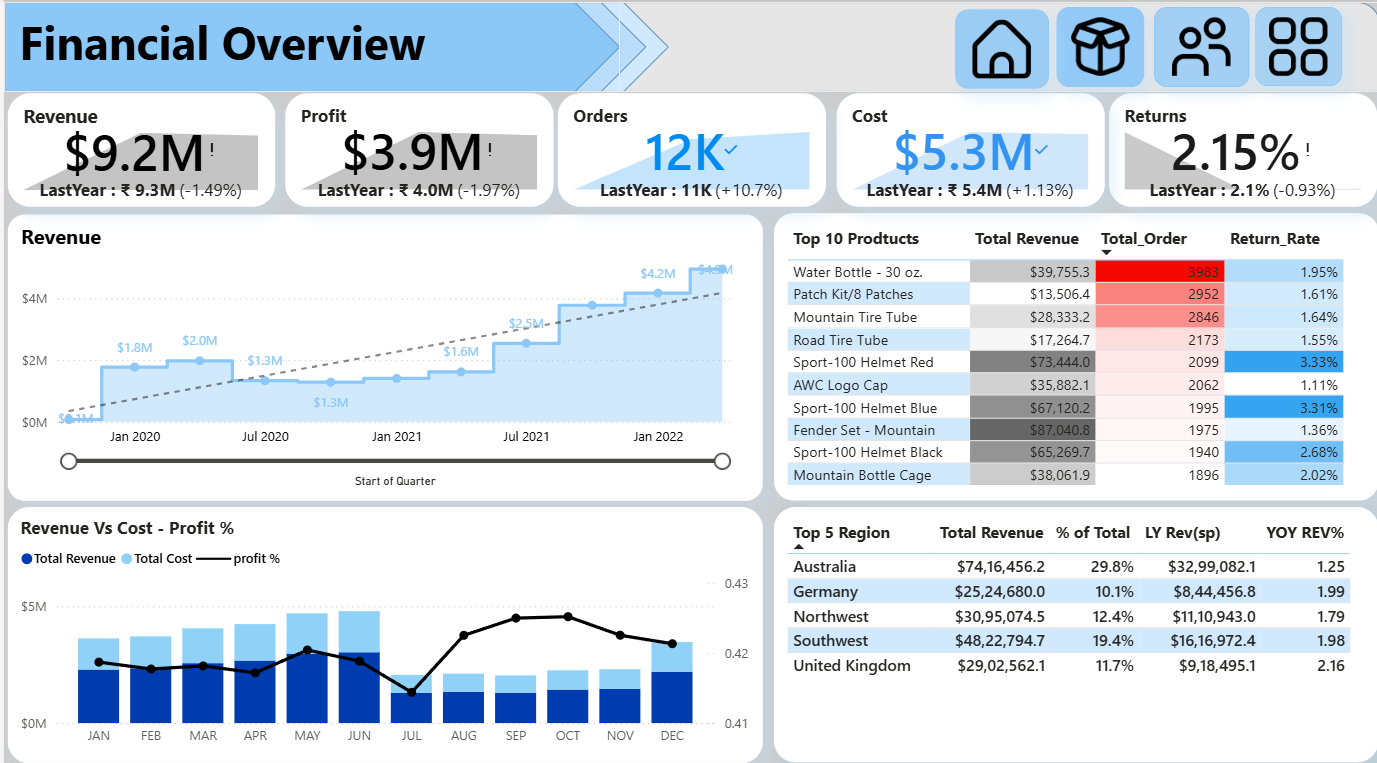

The page's visual inventory and layout, read from the dashboard file:
{"tool":"powerbi","page":{"name":"Executive View","canvas":[1280,720],"ordinal":1},"visuals":[{"type":"group","id":"g1","title":"Group 3","box":[0,4.7,1280.2,83.7],"z":0},{"type":"shape","box":[0,4.7,1280.2,83.7],"z":0,"group":"g1"},{"type":"image","box":[884.9,10.8,87.5,73.8],"z":0,"group":"g3"},{"type":"kpi","title":"Revenue ","fields":{"Indicator":["measures (2).Total Revenue"],"TrendLine":["Calendar_Lookup.Start of Year Hierarchy.Start of Year"],"Goal":["measures (2).Previous Year Revenue"]},"box":[4,90,248.8,105.7],"z":0,"group":"g2"},{"type":"shape","box":[0,4.7,618.6,83.7],"z":1000,"group":"g1"},{"type":"image","title":"more","box":[1164.4,9,81,73.8],"z":1000,"group":"g3"},{"type":"kpi","title":"Profit","fields":{"TrendLine":["Calendar_Lookup.Start of Year Hierarchy.Start of Year"],"Indicator":["measures (2).Total Profit"],"Goal":["measures (2).Previous Year Profit"]},"box":[261.6,90.5,249.9,105.5],"z":1000,"group":"g2"},{"type":"areaChart","title":"Revenue","fields":{"Category":["Calendar_Lookup.Start of Year Hierarchy.Start of Year","Calendar_Lookup.Start of Year Hierarchy.Start of Quarter","Calendar_Lookup.Start of Year Hierarchy.Start of Month","Calendar_Lookup.Start of Year Hierarchy.Start of Week","Calendar_Lookup.Start of Year Hierarchy.Dates"],"Y":["measures (2).Total Revenue"]},"box":[4,202,702,266],"z":1000},{"type":"shape","box":[0,4.7,597.7,83.7],"z":2000,"group":"g1"},{"type":"kpi","title":"Returns","fields":{"TrendLine":["Calendar_Lookup.Start of Year"],"Indicator":["measures (2).Return_Rate"],"Goal":["measures (2).Previous Year Returns rate"]},"box":[1029,90.5,249.9,105.5],"z":2000,"group":"g2"},{"type":"tableEx","title":"TOP 10 PRODUCTS","fields":{"Values":["Products_Lookup.ProductName","measures (2).Total Revenue","measures (2).Total_Order","measures (2).Return_Rate"]},"box":[716.3,201.7,562.6,267.6],"z":2000},{"type":"shape","box":[0,4.7,573.3,83.7],"z":3000,"group":"g1"},{"type":"kpi","title":"Cost","fields":{"TrendLine":["Calendar_Lookup.Start of Year Hierarchy.Start of Year"],"Indicator":["measures (2).Total Cost"],"Goal":["measures (2).Previous Year Cost"]},"box":[775,90.5,249.9,105.5],"z":3000,"group":"g2"},{"type":"lineStackedColumnComboChart","title":"Revenue Vs Cost - Profit % ","fields":{"Y":["measures (2).Total Revenue","measures (2).Total Cost"],"Category":["Calendar_Lookup.Month Name"],"Y2":["measures (2).profit %"]},"box":[4,474,702,238],"z":3000},{"type":"image","box":[979.6,9.3,81.4,74.4],"z":4000,"group":"g4"},{"type":"group","id":"g2","title":"Group 1","box":[4,90,1275,105],"z":4000},{"type":"kpi","title":"Orders","fields":{"TrendLine":["Calendar_Lookup.Start of Year Hierarchy.Start of Year"],"Indicator":["measures (2).Total_Order"],"Goal":["measures (2).Previous Year Orders"]},"box":[515.6,90.5,249.9,105.5],"z":4000,"group":"g2"},{"type":"textbox","box":[9.3,7,409.3,69.8],"z":5000},{"type":"tableEx","fields":{"Values":["Territory_Lookup.Region","measures (2).Total Revenue","measures (2).% of Total","measures (2).LY Rev(sp)","measures (2).YOY REV%"]},"box":[716.3,474.8,562.6,237.4],"z":6000},{"type":"group","id":"g3","title":"Group 2","box":[884.9,9,360.5,75.6],"z":7000,"group":"g4"},{"type":"group","id":"g4","title":"Group 4","box":[884.9,9,360.5,75.6],"z":8000},{"type":"image","box":[1070,9.3,88.4,74.3],"z":10501,"group":"g3"}]}

Visuals, with their boxes in screenshot pixels (x1, y1, x2, y2), scaled from the page's 1280x720 canvas onto the 1377x763 screenshot:
"Group 3" group: region(0, 5, 1376, 94)
shape: region(0, 5, 1376, 94)
image: region(952, 11, 1046, 90)
"Revenue " kpi: region(4, 95, 272, 207)
shape: region(0, 5, 665, 94)
"more" image: region(1253, 10, 1340, 88)
"Profit" kpi: region(281, 96, 550, 208)
"Revenue" areaChart: region(4, 214, 760, 496)
shape: region(0, 5, 643, 94)
"Returns" kpi: region(1107, 96, 1376, 208)
"TOP 10 PRODUCTS" tableEx: region(771, 214, 1376, 497)
shape: region(0, 5, 617, 94)
"Cost" kpi: region(834, 96, 1103, 208)
"Revenue Vs Cost - Profit % " lineStackedColumnComboChart: region(4, 502, 760, 755)
image: region(1054, 10, 1141, 89)
"Group 1" group: region(4, 95, 1376, 207)
"Orders" kpi: region(555, 96, 824, 208)
textbox: region(10, 7, 450, 81)
tableEx - Territory_Lookup.Region x measures (2).Total Revenue: region(771, 503, 1376, 755)
"Group 2" group: region(952, 10, 1340, 90)
"Group 4" group: region(952, 10, 1340, 90)
image: region(1151, 10, 1246, 89)
